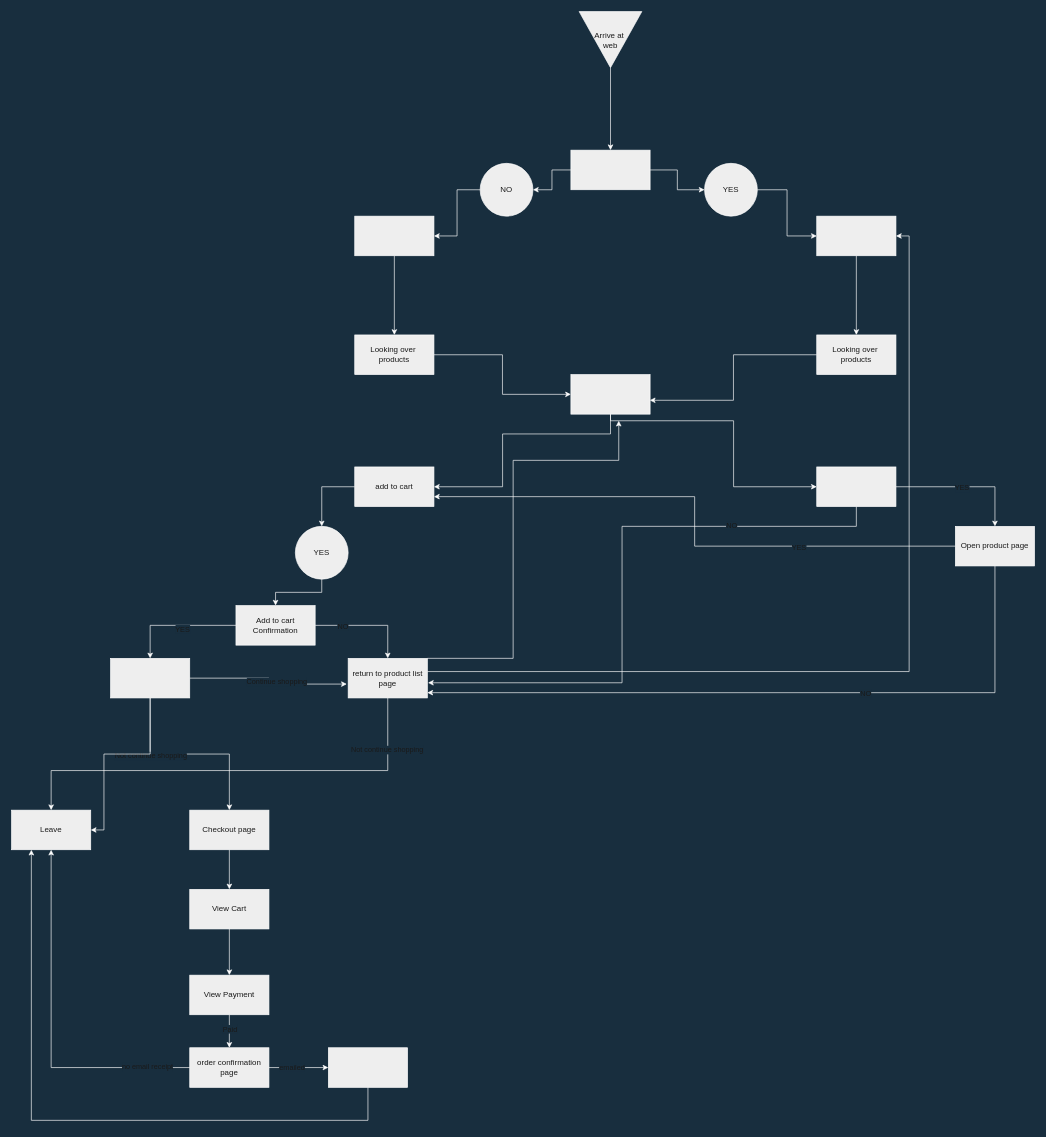
The diagram is 1046 pixels wide and 1137 high, and some of its shapes have lost their labels. Each missing label, with the box of its shape:
Added to Cart: (110, 658, 190, 698)
Checkout product page: (816, 466, 896, 507)
explore Home: (354, 215, 434, 256)
Find specific product: (570, 374, 650, 414)
received email: (328, 1047, 408, 1087)
search box: (816, 215, 896, 256)
Search product: (570, 149, 650, 190)
